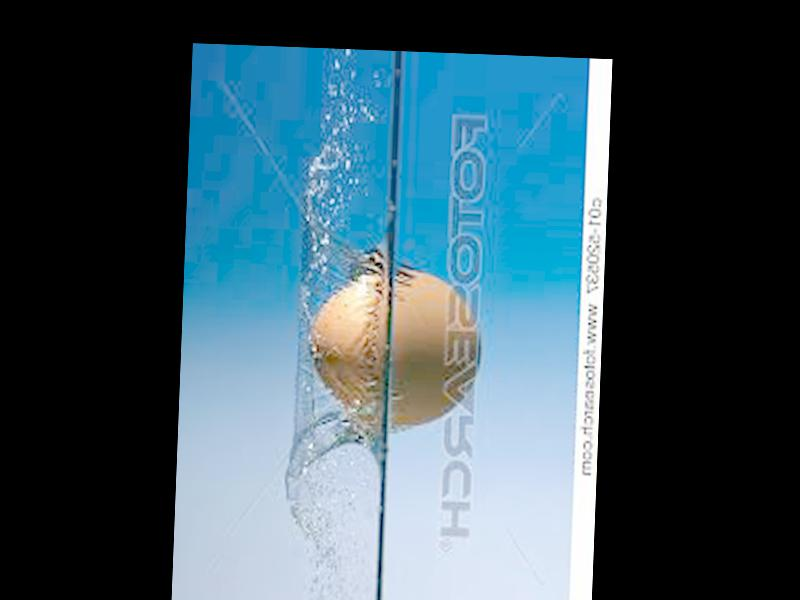Eggs: (305, 266, 481, 430)
